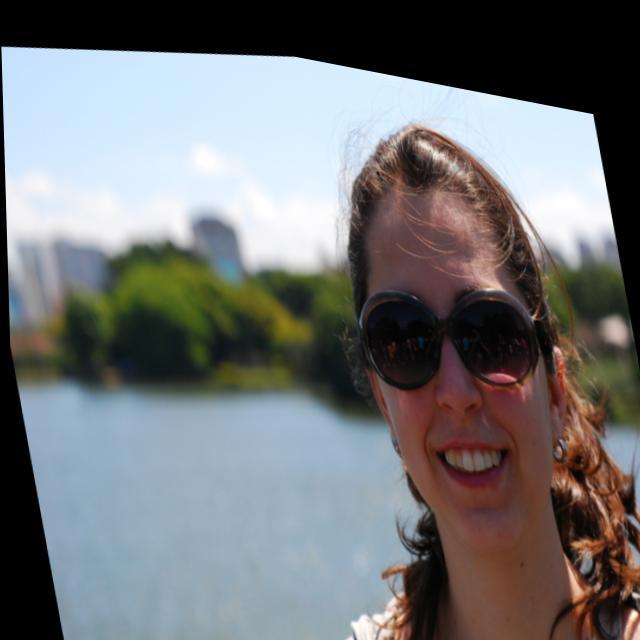Nonhelmet: (340, 122, 580, 544)
